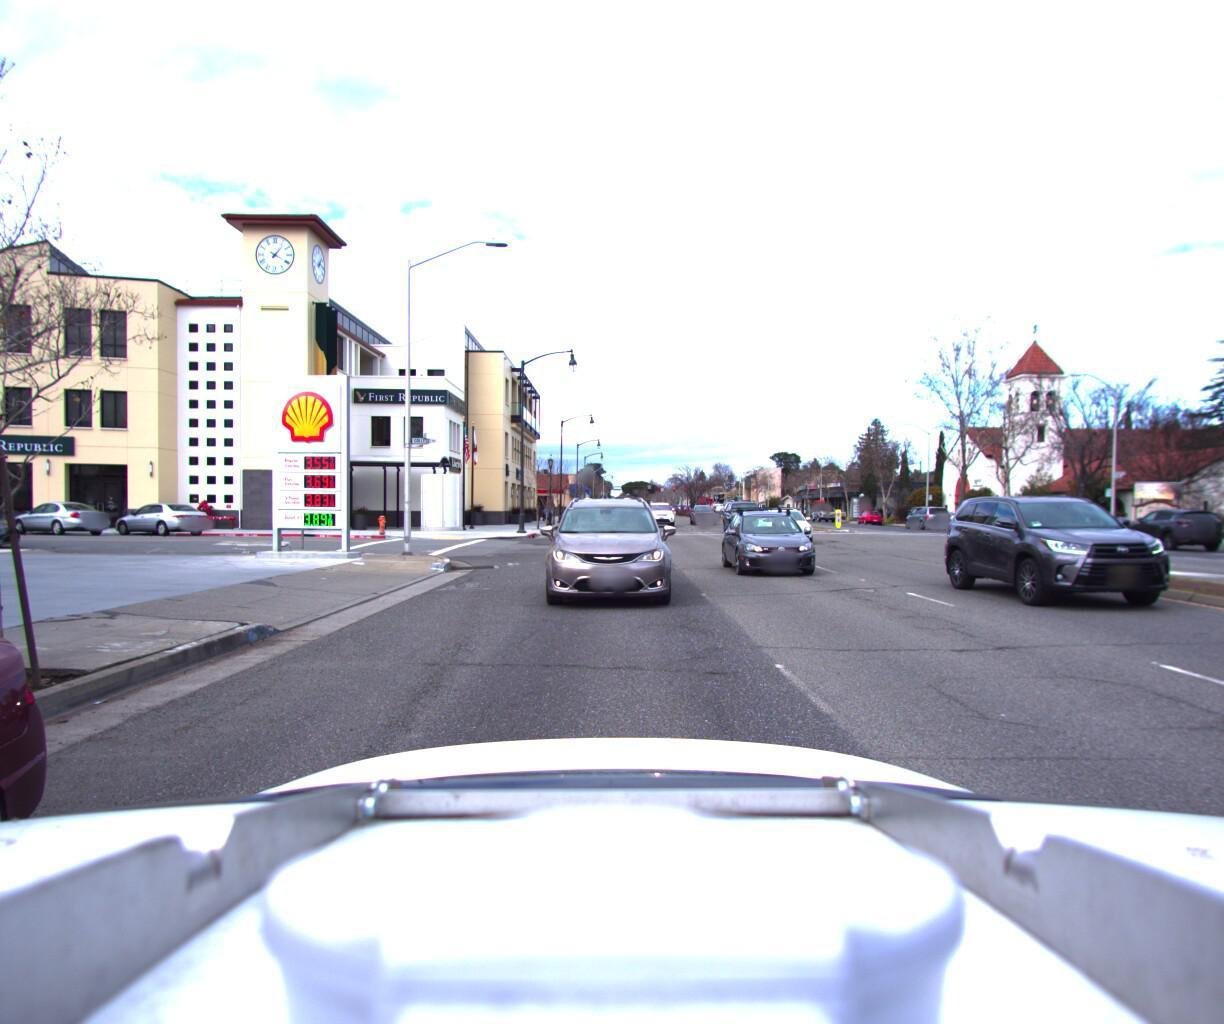car: (944, 488, 1224, 626), (526, 485, 691, 615), (719, 502, 847, 584), (1099, 506, 1209, 549), (5, 498, 118, 537), (108, 498, 218, 536), (752, 505, 821, 545), (716, 494, 771, 532), (0, 496, 35, 553), (895, 503, 946, 527), (646, 498, 677, 525), (687, 504, 719, 525), (852, 506, 884, 522), (0, 495, 6, 535)
